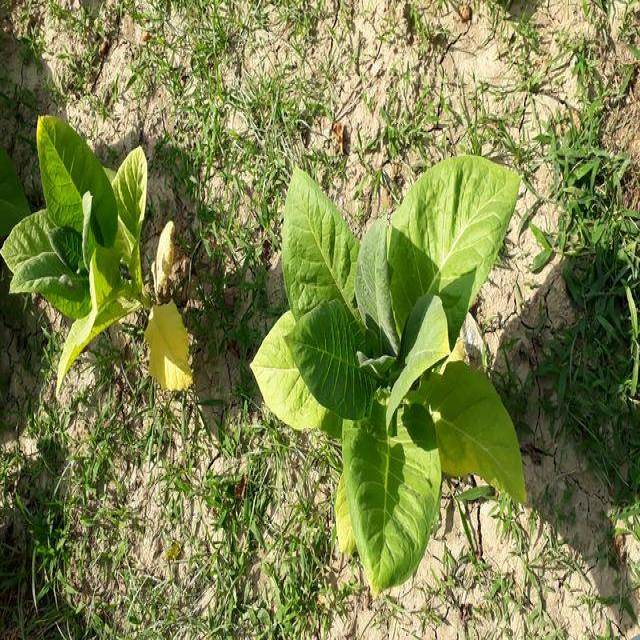crop: (248, 168, 532, 588), (3, 133, 190, 395)
